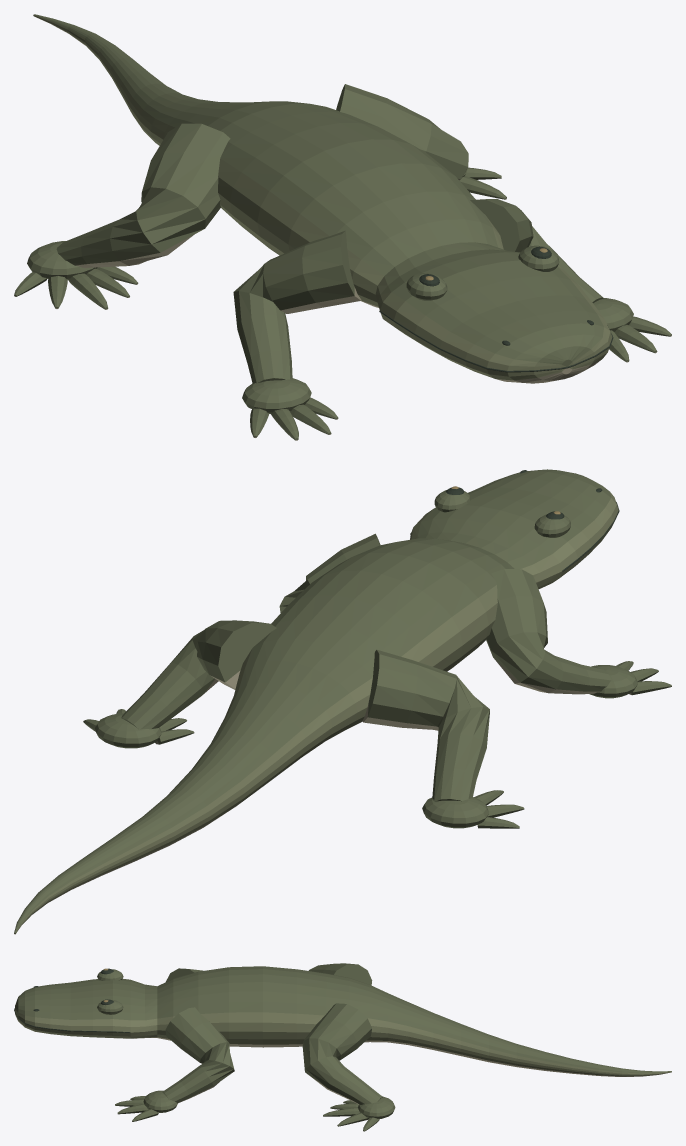
3 views of the same model, one above another, from view 1: azimuth 30°, elevation 25°; view 2: azimuth 150°, elevation 25°; view 3: azimuth 270°, elevation 25° (orthographic). The views are drawn at different scales.
Parts seen in each view (by area): view 1: Eryops living reconstruction; view 2: Eryops living reconstruction; view 3: Eryops living reconstruction.
Part boxes in pixels (x1,y1,x2,y2): Eryops living reconstruction: (14, 14, 671, 440); Eryops living reconstruction: (14, 469, 671, 934); Eryops living reconstruction: (14, 963, 671, 1131).
Bounding box in the file's own units: 1.03 × 0.322 × 2.13.
